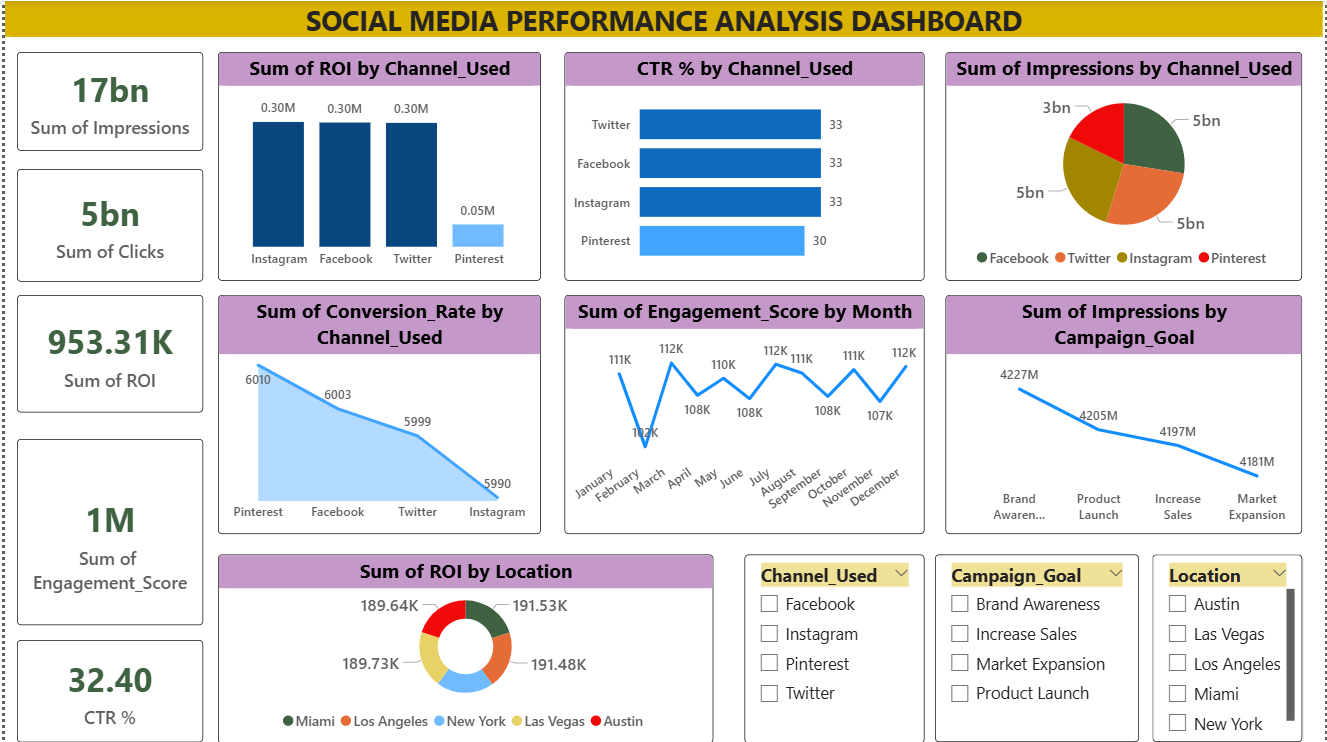

This screenshot's page, from the dashboard's own definition file:
{"tool":"powerbi","page":{"name":"Page 1","canvas":[1280,720],"ordinal":0},"visuals":[{"type":"card","fields":{"Values":["Sum(social mediaaf.Clicks)"]},"box":[11.6,162.3,180.6,109.3],"z":0},{"type":"card","fields":{"Values":["Sum(social mediaaf.Impressions)"]},"box":[11.6,49.7,180.6,96.1],"z":1000},{"type":"card","fields":{"Values":["Sum(social mediaaf.ROI)"]},"box":[11.6,284.9,180.6,114.3],"z":2000},{"type":"card","fields":{"Values":["Sum(social mediaaf.Engagement_Score)"]},"box":[11.6,425.7,180.6,180.6],"z":3000},{"type":"clusteredColumnChart","fields":{"Category":["social mediaaf.Channel_Used"],"Y":["Sum(social mediaaf.ROI)"]},"box":[207.1,49.7,313.1,222],"z":4000},{"type":"pieChart","fields":{"Category":["social mediaaf.Channel_Used"],"Y":["Sum(social mediaaf.Impressions)"]},"box":[912.7,49.7,346.2,222],"z":5000},{"type":"lineChart","fields":{"Category":["social mediaaf.Campaign_Goal"],"Y":["Sum(social mediaaf.Impressions)"]},"box":[912.7,284.9,346.2,231.9],"z":6000},{"type":"areaChart","fields":{"Category":["social mediaaf.Channel_Used"],"Y":["Sum(social mediaaf.Conversion_Rate)"]},"box":[207.1,284.9,313.1,231.9],"z":7000},{"type":"barChart","fields":{"Category":["social mediaaf.Channel_Used"],"Y":["social mediaaf.CTR %"]},"box":[543.3,49.7,349.5,222],"z":8000},{"type":"lineChart","fields":{"Y":["Sum(social mediaaf.Engagement_Score)"],"Category":["social mediaaf.Date.Variation.Date Hierarchy.Month"]},"box":[543.3,284.9,349.5,231.9],"z":9000},{"type":"card","fields":{"Values":["social mediaaf.CTR %"]},"box":[11.6,619.5,180.6,99.4],"z":10000},{"type":"textbox","title":"SOCIAL MEDIA PERFORMANCE ANALYSIS DASHBOARD","box":[0,0,1278.8,34.8],"z":11000},{"type":"donutChart","fields":{"Category":["social mediaaf.Location"],"Y":["Sum(social mediaaf.ROI)"]},"box":[206.7,537.1,480.3,183.4],"z":12000},{"type":"slicer","fields":{"Values":["social mediaaf.Channel_Used"]},"box":[717.6,537.1,174.7,183.4],"z":13000},{"type":"slicer","fields":{"Values":["social mediaaf.Campaign_Goal"]},"box":[902.4,537.1,198,181.9],"z":14000},{"type":"slicer","fields":{"Values":["social mediaaf.Location"]},"box":[1113.5,537.1,145.6,181.9],"z":15000}]}

Visuals, with their boxes in screenshot pixels (x1, y1, x2, y2), scaled from the page's 1280x720 canvas onto the 1327x742 screenshot:
card - Sum(social mediaaf.Clicks): bbox=[12, 167, 199, 280]
card - Sum(social mediaaf.Impressions): bbox=[12, 51, 199, 150]
card - Sum(social mediaaf.ROI): bbox=[12, 294, 199, 411]
card - Sum(social mediaaf.Engagement_Score): bbox=[12, 439, 199, 625]
clusteredColumnChart - social mediaaf.Channel_Used x Sum(social mediaaf.ROI): bbox=[215, 51, 539, 280]
pieChart - social mediaaf.Channel_Used x Sum(social mediaaf.Impressions): bbox=[946, 51, 1305, 280]
lineChart - social mediaaf.Campaign_Goal x Sum(social mediaaf.Impressions): bbox=[946, 294, 1305, 533]
areaChart - social mediaaf.Channel_Used x Sum(social mediaaf.Conversion_Rate): bbox=[215, 294, 539, 533]
barChart - social mediaaf.Channel_Used x social mediaaf.CTR %: bbox=[563, 51, 926, 280]
lineChart - Sum(social mediaaf.Engagement_Score) x social mediaaf.Date.Variation.Date Hierarchy.Month: bbox=[563, 294, 926, 533]
card - social mediaaf.CTR %: bbox=[12, 638, 199, 741]
"SOCIAL MEDIA PERFORMANCE ANALYSIS DASHBOARD" textbox: bbox=[0, 0, 1326, 36]
donutChart - social mediaaf.Location x Sum(social mediaaf.ROI): bbox=[214, 554, 712, 741]
slicer - social mediaaf.Channel_Used: bbox=[744, 554, 925, 741]
slicer - social mediaaf.Campaign_Goal: bbox=[936, 554, 1141, 741]
slicer - social mediaaf.Location: bbox=[1154, 554, 1305, 741]
